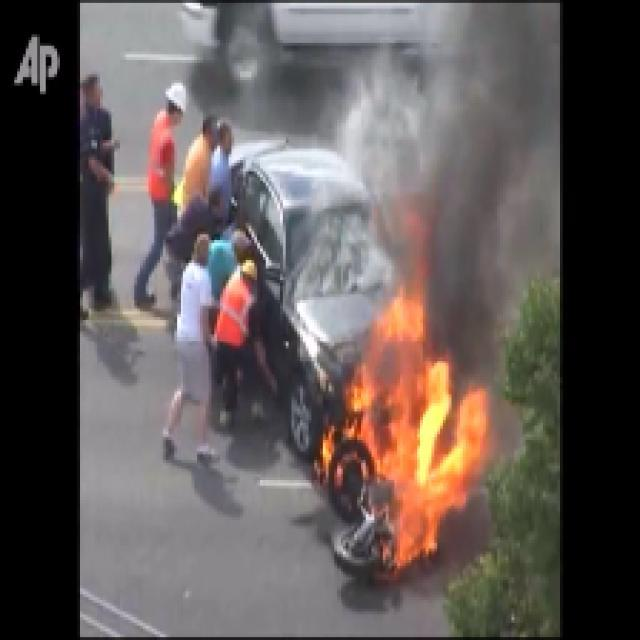Fire: (344, 362, 474, 574)
Smoke: (435, 33, 535, 359)
